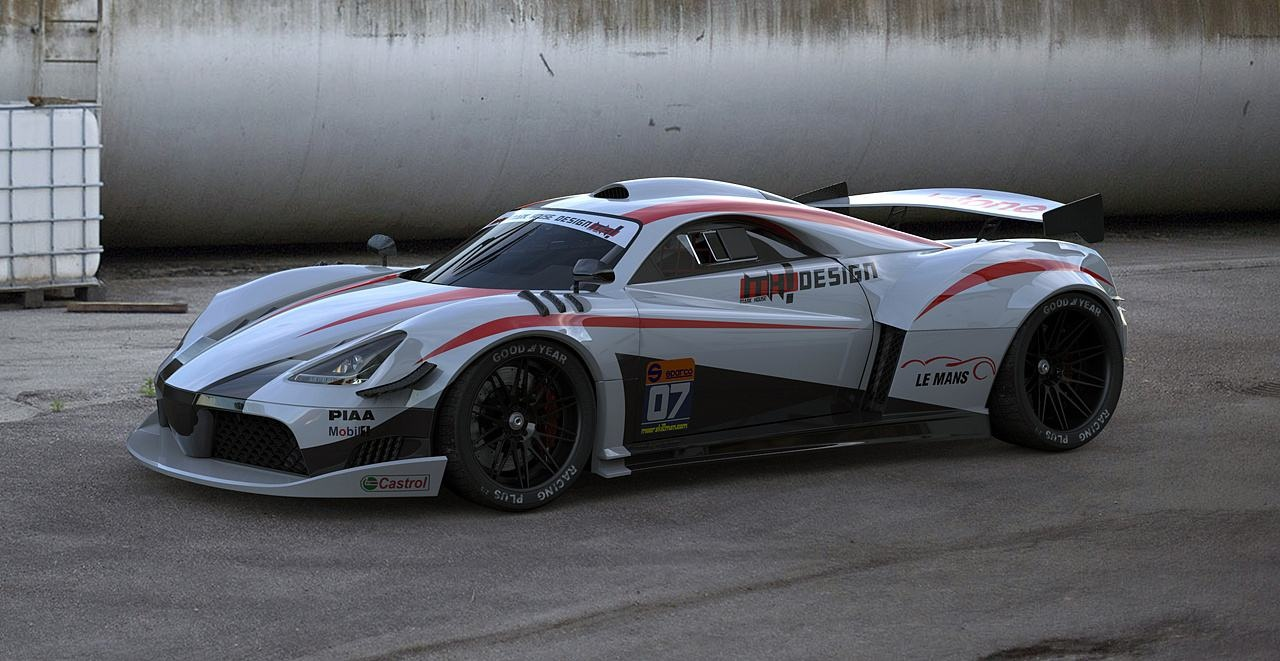racing car: (139, 153, 1136, 484)
